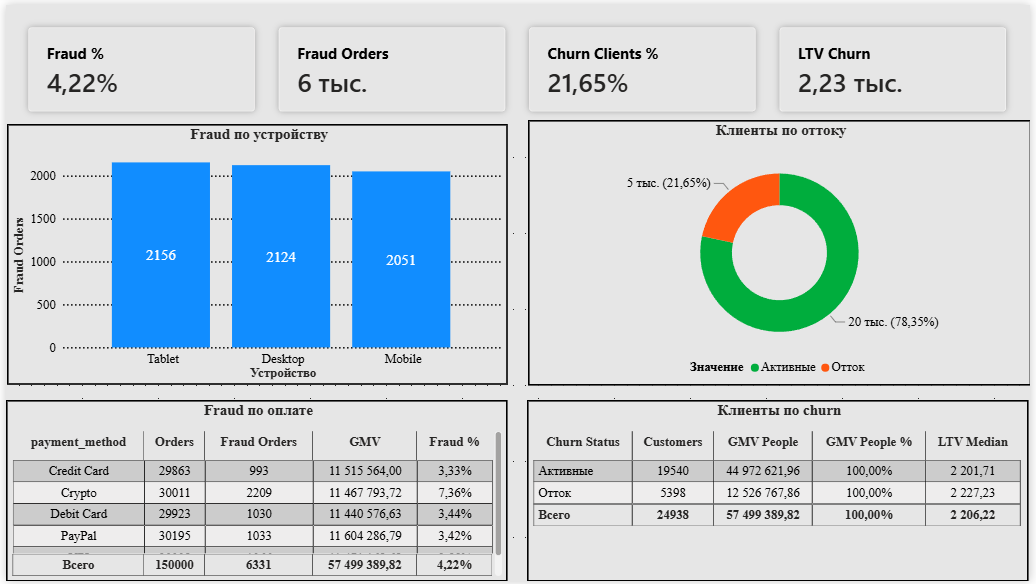

Layout of this report page (visuals, bound fields, positions):
{"tool":"powerbi","page":{"name":"fraud_churn","canvas":[1280,720],"ordinal":3},"visuals":[{"type":"cardVisual","fields":{"Data":["clean_orders.Fraud %","clean_orders.Fraud Orders","clean_orders.Churn Clients %","clean_orders.LTV Churn"]},"box":[0,0,1280.6,161.2],"z":0},{"type":"donutChart","title":"Клиенты по оттоку","fields":{"Category":["people.Churn Status"],"Y":["people.Customers"]},"box":[652.5,143.8,628.6,331.7],"z":2000},{"type":"tableEx","title":"Fraud по оплате","fields":{"Values":["clean_orders.payment_method","clean_orders.Orders","clean_orders.Fraud Orders","clean_orders.GMV","clean_orders.Fraud %"]},"box":[0,493.7,627,227],"z":3000},{"type":"tableEx","title":"Клиенты по churn","fields":{"Values":["people.Churn Status","people.Customers","people.GMV People","people.GMV People %","people.LTV Median"]},"box":[650.8,493.7,627,227],"z":4000},{"type":"clusteredColumnChart","title":"Fraud по устройству","fields":{"Category":["clean_orders.device_type"],"Y":["clean_orders.Fraud Orders"]},"box":[1.2,148.8,626.2,326.2],"z":5001}]}

Visuals, with their boxes in screenshot pixels (x1, y1, x2, y2), scaled from the page's 1280x720 canvas onto the 1036x584 screenshot:
cardVisual - clean_orders.Fraud % x clean_orders.Fraud Orders: 0/0/1035/131
"Клиенты по оттоку" donutChart: 528/117/1035/386
"Fraud по оплате" tableEx: 0/400/507/583
"Клиенты по churn" tableEx: 527/400/1034/583
"Fraud по устройству" clusteredColumnChart: 1/121/508/385
